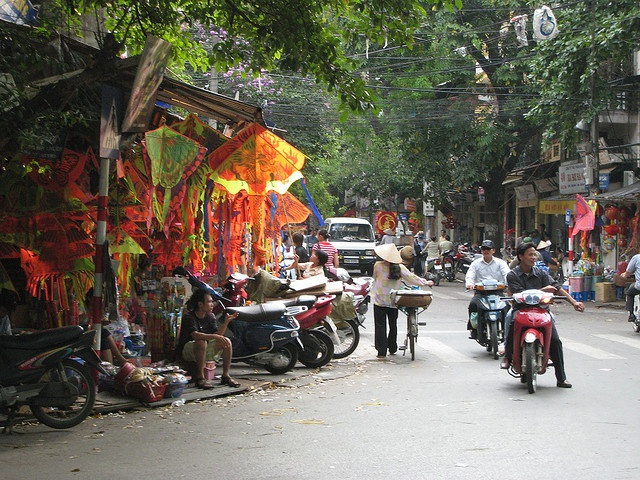non-vehicle: (0, 318, 110, 434), (185, 270, 307, 374), (222, 270, 335, 364), (504, 289, 567, 392), (466, 279, 512, 360), (323, 265, 375, 325), (423, 256, 442, 286), (443, 255, 455, 281)
